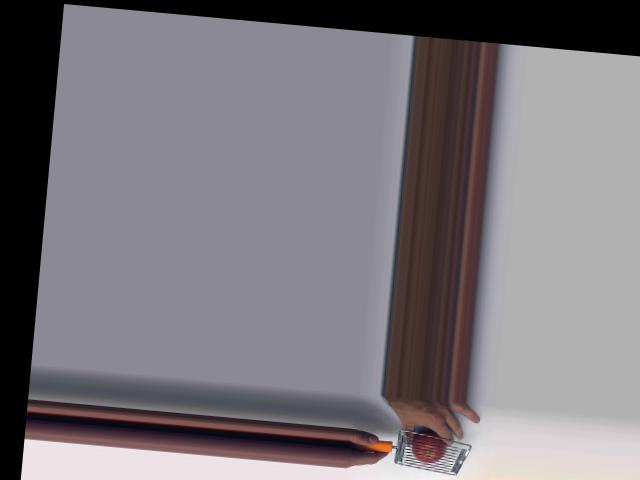tomato: (409, 429, 446, 464)
